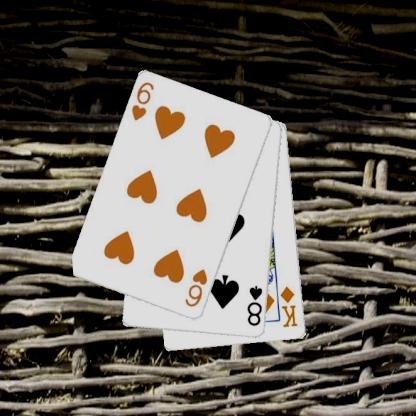6H: (129, 79, 156, 123), (182, 266, 209, 309)
8S: (244, 283, 264, 327)
KD: (278, 284, 299, 330)
